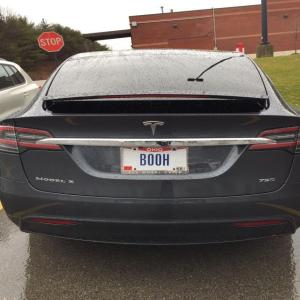Plate: (120, 147, 188, 174)
